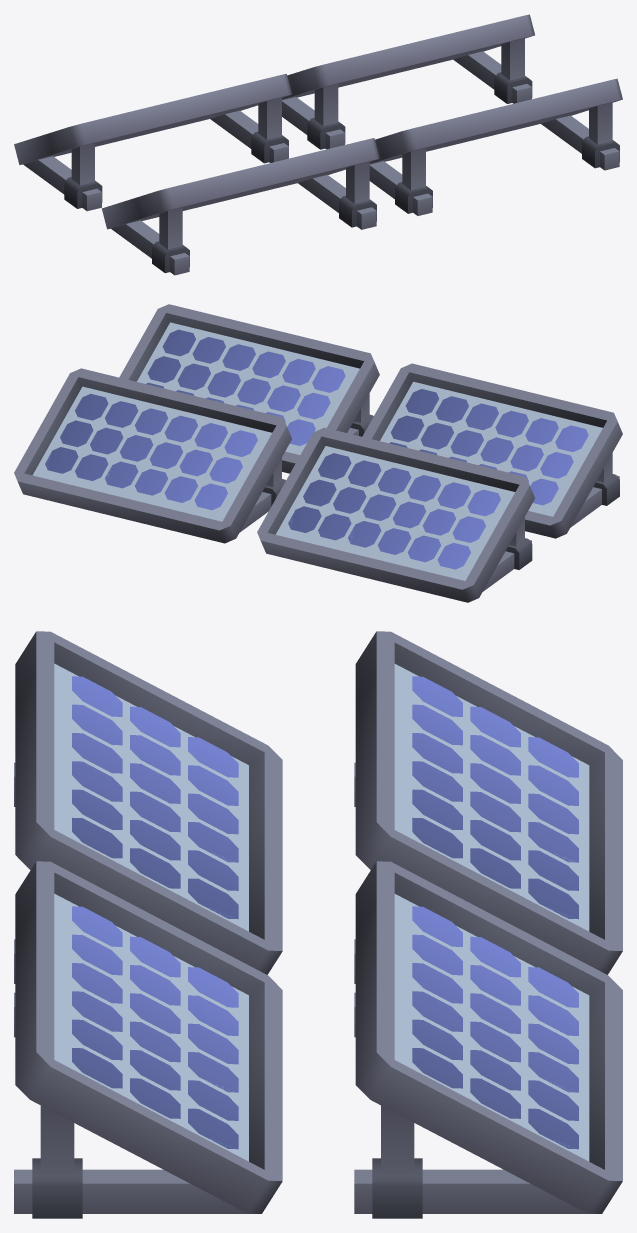
The model's file is solar-panel-landscape-group.glb.
3 views of the same model, one above another, from view 1: azimuth 30°, elevation 25°; view 2: azimuth 150°, elevation 25°; view 3: azimuth 270°, elevation 25° (orthographic). The views are drawn at different scales.
Visible parts, largest first — view 1: solar-panel-landscape-group; view 2: solar-panel-landscape-group; view 3: solar-panel-landscape-group.
Boxes of the visible parts, box(x1,y1,x2,y2) form: solar-panel-landscape-group: box(14, 14, 622, 275); solar-panel-landscape-group: box(14, 304, 622, 602); solar-panel-landscape-group: box(14, 631, 622, 1218).
Size of the model in its own units: 1.51 by 0.2623 by 0.895.
Materials: 2 (2 with a texture image).
